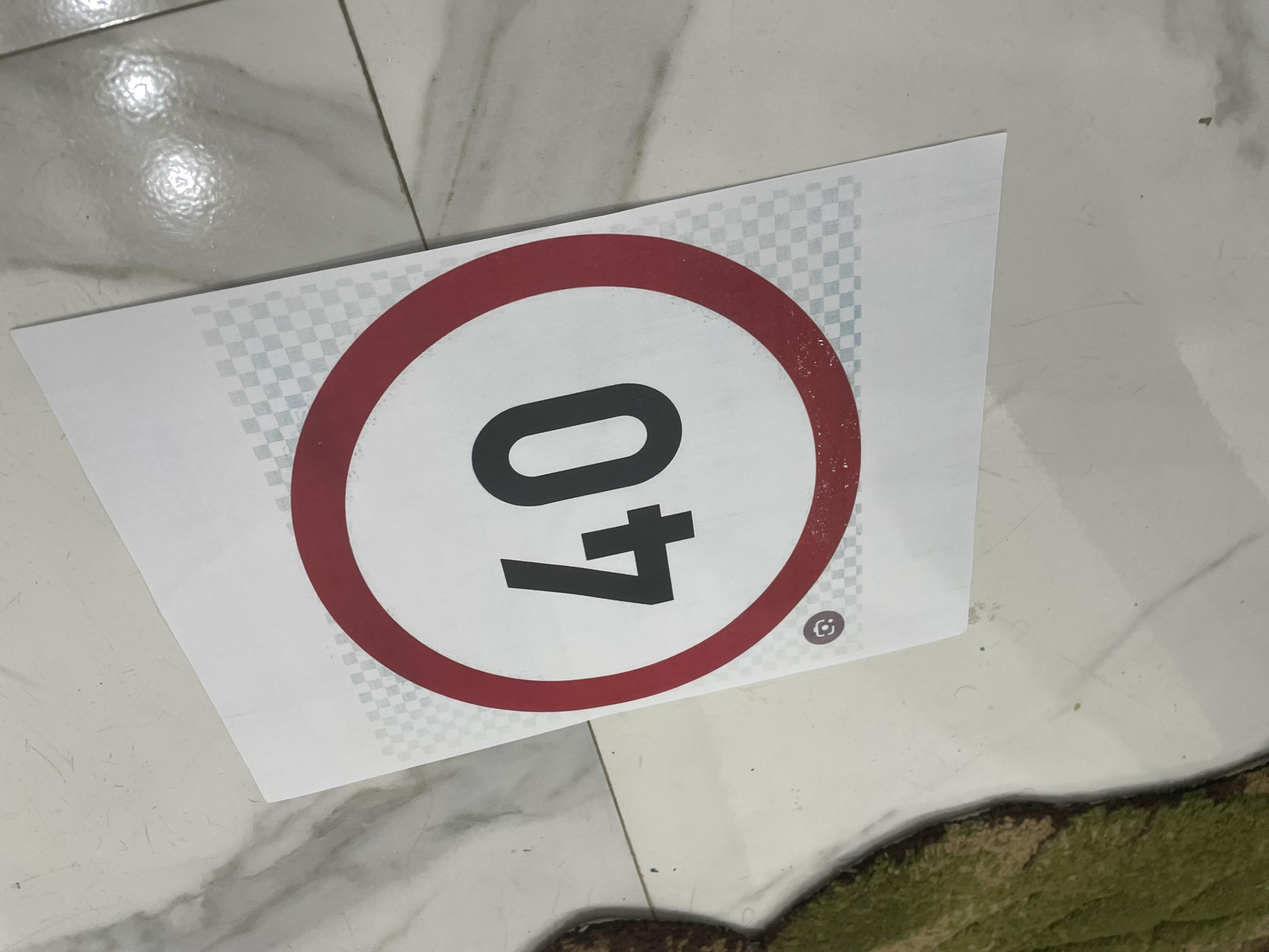40-Speed: (307, 206, 972, 662)
